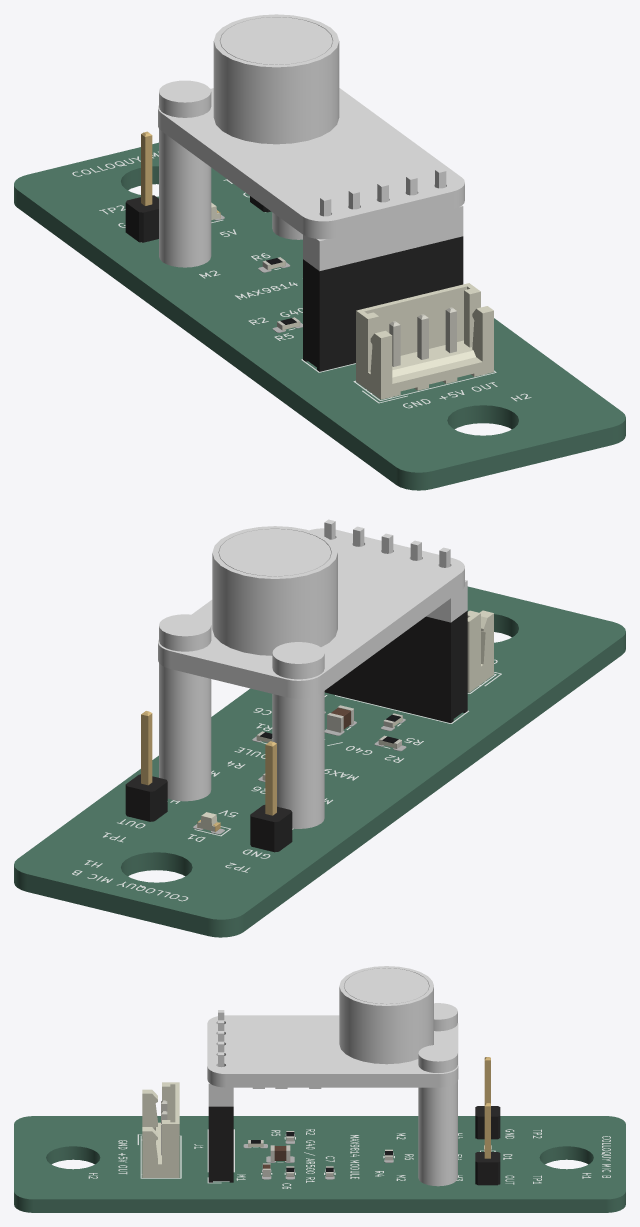
Rendered from microphone.glb.
3 renders of one model, top to bottom at view 1: azimuth 30°, elevation 25°; view 2: azimuth 150°, elevation 25°; view 3: azimuth 270°, elevation 25°, orthographic. The views are drawn at different scales.
Parts seen in each view (by area): view 1: =>[0:1:1:14], M1 (×2), J1, H4, TP2, =>[0:1:1:12]; view 2: =>[0:1:1:14], M1 (×2), H3, H4, TP1, TP2, J1, =>[0:1:1:12], C7; view 3: =>[0:1:1:14], M1 (×2), H3, J1, =>[0:1:1:12], TP1, TP2, H4, =>[0:1:1:11].
Boxes of the visible parts, left/top/right/bottom form: =>[0:1:1:14]: left=14, top=142, right=625, bottom=490; M1 (×2): left=158, top=14, right=464, bottom=371; J1: left=356, top=283, right=493, bottom=399; H4: left=159, top=80, right=211, bottom=267; TP2: left=125, top=131, right=158, bottom=242; =>[0:1:1:12]: left=72, top=151, right=531, bottom=408; =>[0:1:1:14]: left=14, top=586, right=625, bottom=937; M1 (×2): left=158, top=519, right=467, bottom=722; H3: left=159, top=614, right=211, bottom=801; H4: left=272, top=642, right=324, bottom=828; TP1: left=125, top=711, right=167, bottom=821; TP2: left=250, top=741, right=292, bottom=852; J1: left=467, top=610, right=493, bottom=692; =>[0:1:1:12]: left=72, top=659, right=501, bottom=901; C7: left=327, top=705, right=353, bottom=732; =>[0:1:1:14]: left=14, top=1116, right=625, bottom=1212; M1 (×2): left=207, top=966, right=458, bottom=1182; H3: left=418, top=1045, right=457, bottom=1186; J1: left=142, top=1082, right=179, bottom=1177; =>[0:1:1:12]: left=88, top=1129, right=610, bottom=1188; TP1: left=475, top=1103, right=500, bottom=1185; TP2: left=475, top=1057, right=500, bottom=1139; H4: left=434, top=1003, right=457, bottom=1031; =>[0:1:1:11]: left=213, top=1134, right=393, bottom=1181.
Size of the model in its own units: 0.02 by 0.0223 by 0.062.
